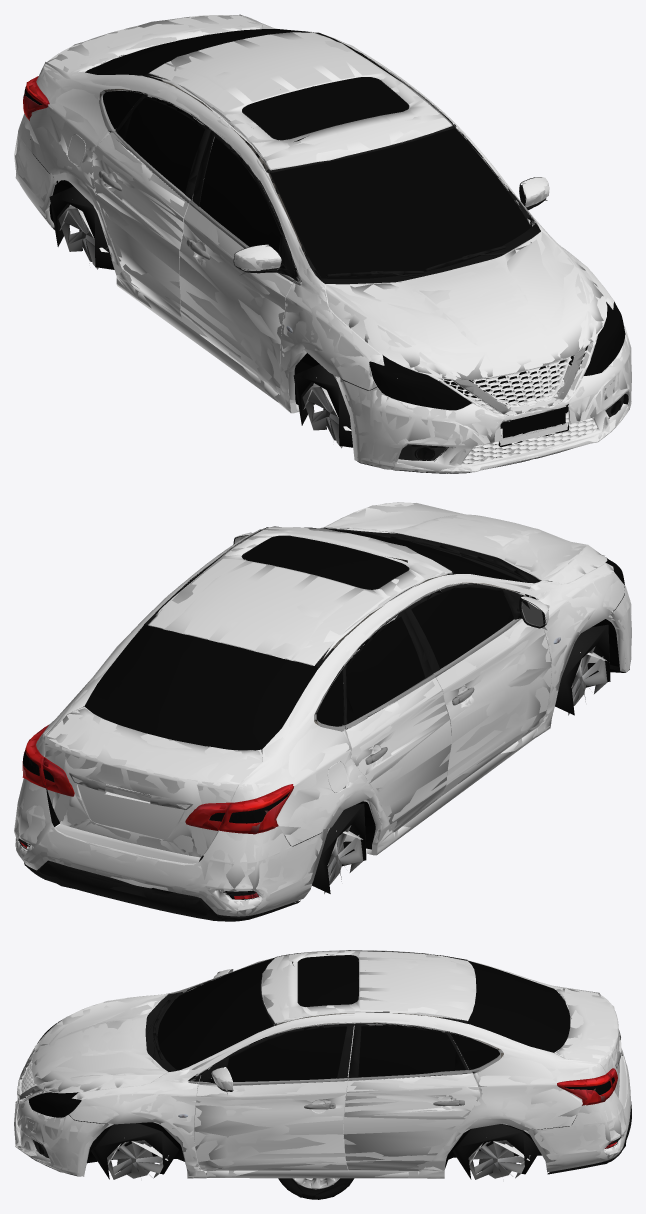
The model's file is sedan5.glb.
3 renders of one model, top to bottom at view 1: azimuth 30°, elevation 25°; view 2: azimuth 150°, elevation 25°; view 3: azimuth 270°, elevation 25°, orthographic. The views are drawn at different scales.
Visible parts, largest first — view 1: body0, body1, body2; view 2: body0, body1, body2; view 3: body0, body1, body2, wheel0, wheel1.
Boxes of the visible parts, <box> form: body0: <box>15,15,631,473</box>; body1: <box>15,15,631,473</box>; body2: <box>14,14,631,473</box>; body0: <box>14,502,631,921</box>; body1: <box>15,502,631,921</box>; body2: <box>14,503,631,920</box>; body0: <box>15,950,631,1178</box>; body1: <box>15,950,631,1177</box>; body2: <box>14,950,629,1179</box>; wheel0: <box>278,1178,353,1199</box>; wheel1: <box>278,1178,354,1199</box>.
Size of the model in its own units: 2.01 by 1.81 by 4.64.
